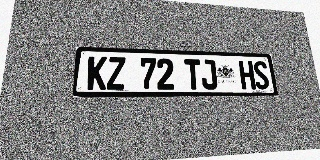2: (157, 58, 174, 90)
7: (139, 58, 157, 90)
H: (238, 61, 256, 89)
J: (200, 59, 218, 90)
K: (87, 56, 107, 90)
S: (253, 61, 270, 89)
T: (184, 59, 202, 90)
Z: (107, 57, 125, 90)
